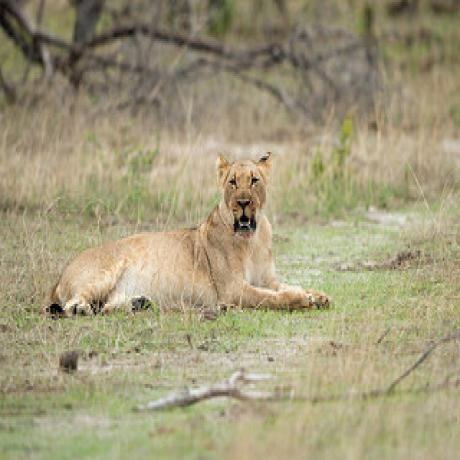Lion: (39, 144, 329, 314)
